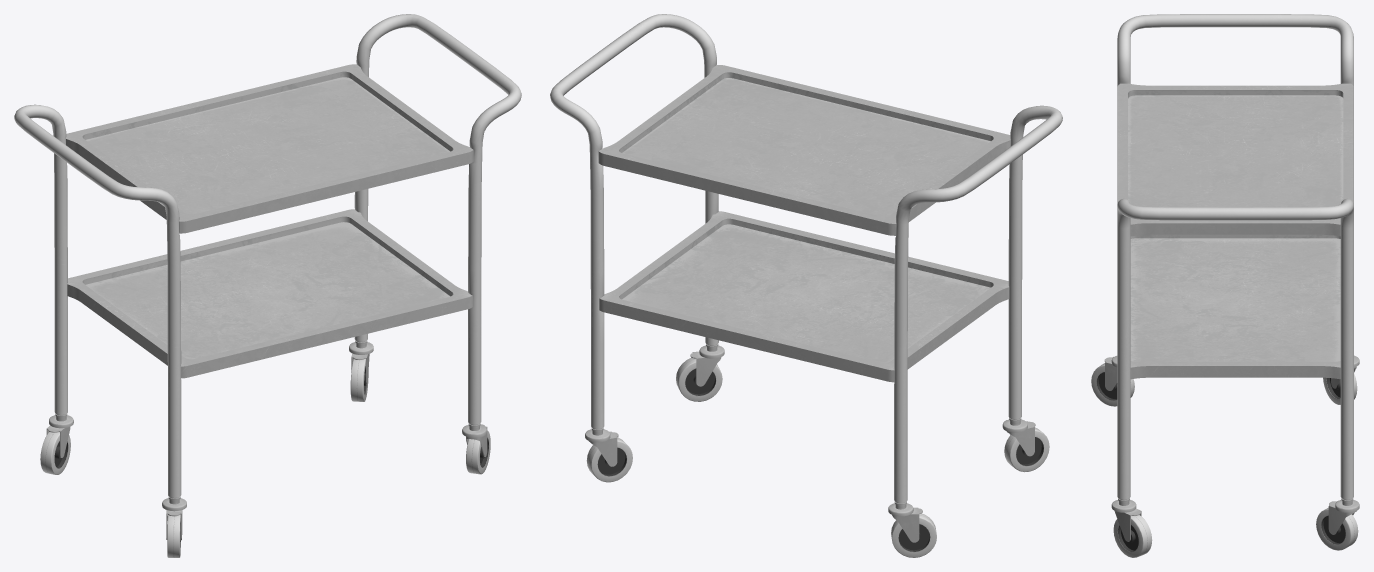
The model's file is hospital_trolley.glb.
3 views of the same model, side by side, from view 1: azimuth 30°, elevation 25°; view 2: azimuth 150°, elevation 25°; view 3: azimuth 270°, elevation 25° (orthographic). The views are drawn at different scales.
Visible parts, largest first — view 1: Trolley; view 2: Trolley; view 3: Trolley.
Boxes of the visible parts, x1=… form: Trolley: x1=14, y1=14, x2=521, y2=557; Trolley: x1=550, y1=14, x2=1062, y2=557; Trolley: x1=1091, y1=14, x2=1359, y2=557.
Size of the model in its own units: 1.06 by 0.9138 by 0.6045.
Materials: 1 (1 with a texture image).
